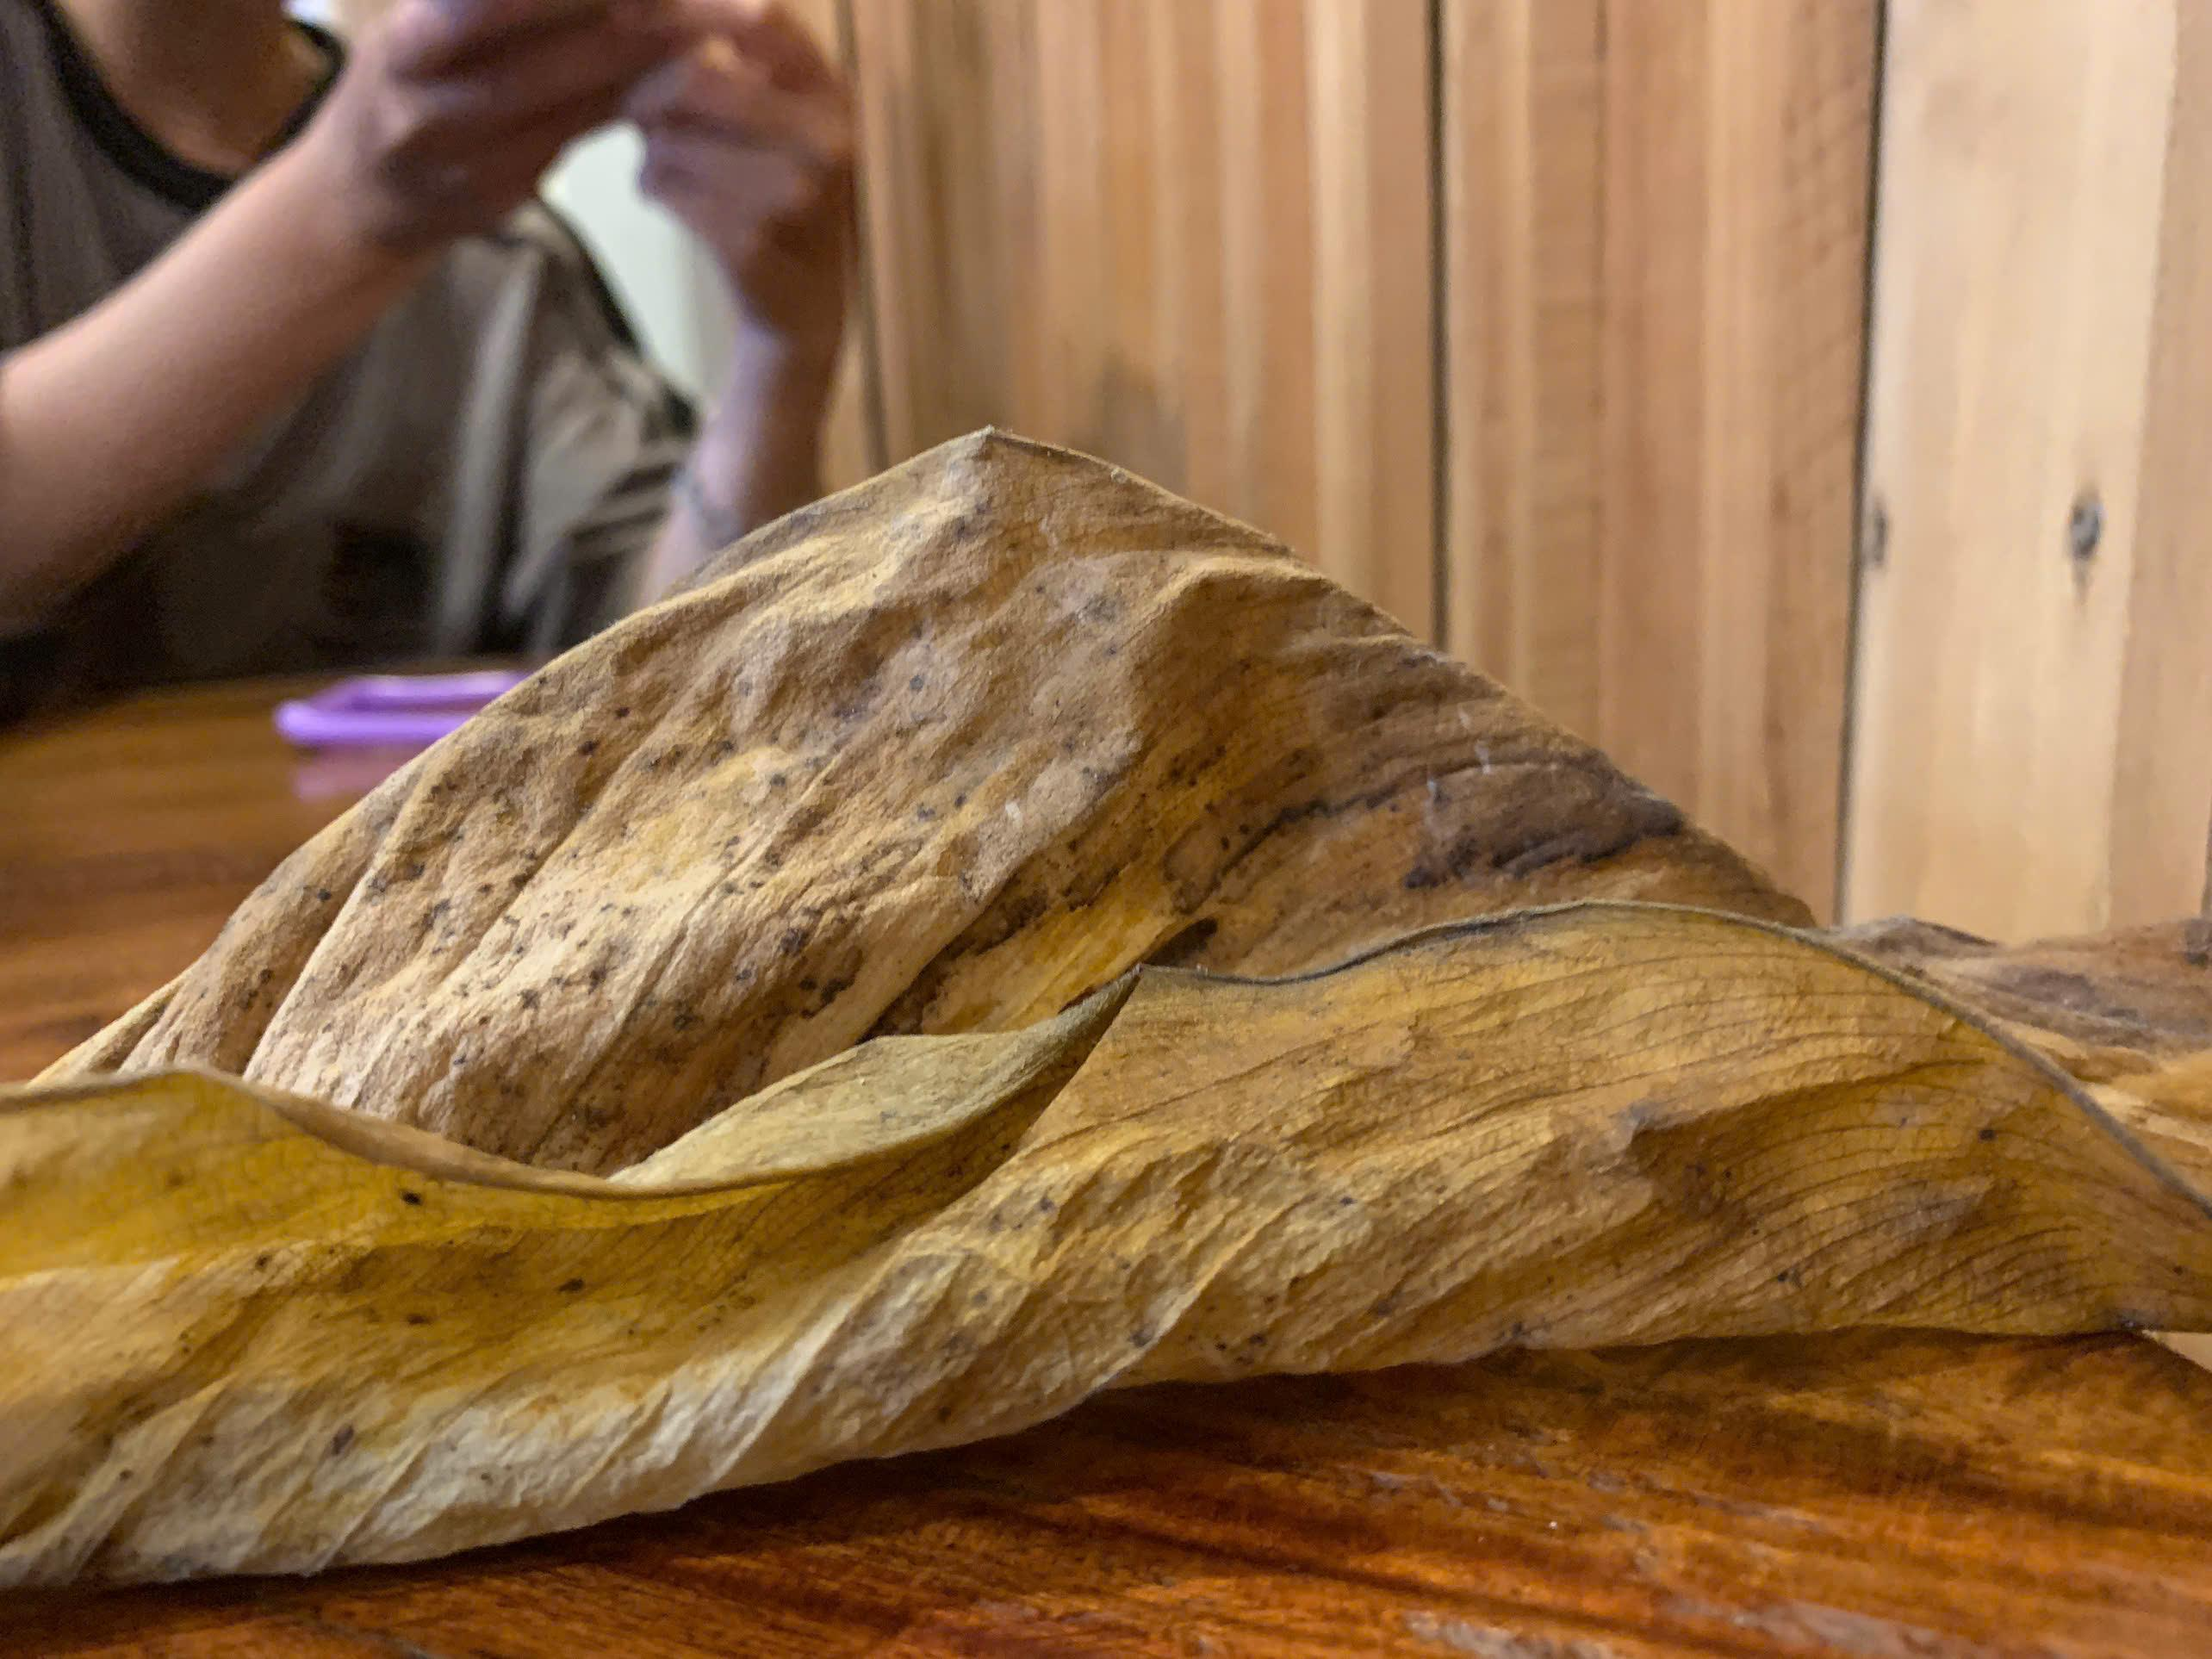Huu co: (17, 439, 2212, 1577)
